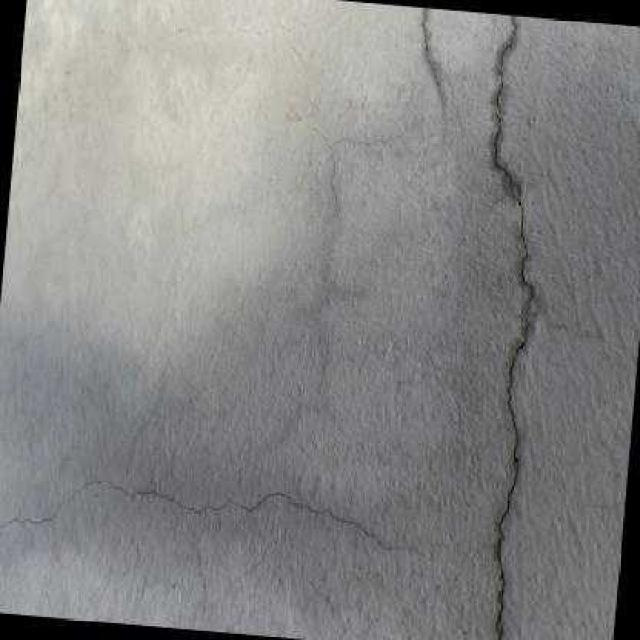D00: (0, 478, 390, 552), (497, 184, 533, 640), (495, 16, 517, 185), (423, 8, 428, 55)
